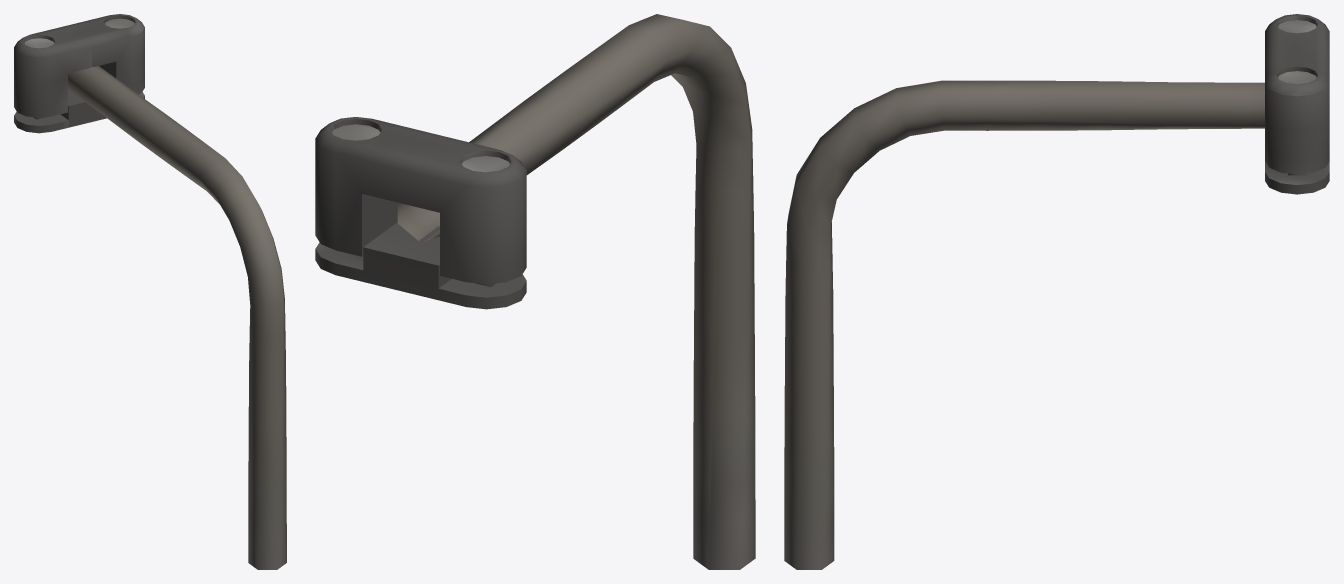
Rendered from wall-cable-bend--6.gltf.
3 renders of one model, left to right at view 1: azimuth 30°, elevation 25°; view 2: azimuth 150°, elevation 25°; view 3: azimuth 270°, elevation 25°, orthographic. The views are drawn at different scales.
Parts seen in each view (by area): view 1: cable_corner_away; view 2: cable_corner_away; view 3: cable_corner_away.
Boxes of the visible parts, x1,y1,x2,y2 form: cable_corner_away: (14, 14, 286, 569); cable_corner_away: (315, 14, 755, 569); cable_corner_away: (784, 14, 1329, 569).
Bounding box in the file's own units: 0.0416 × 0.1259 × 0.1219.
1 material, 1 textured.
